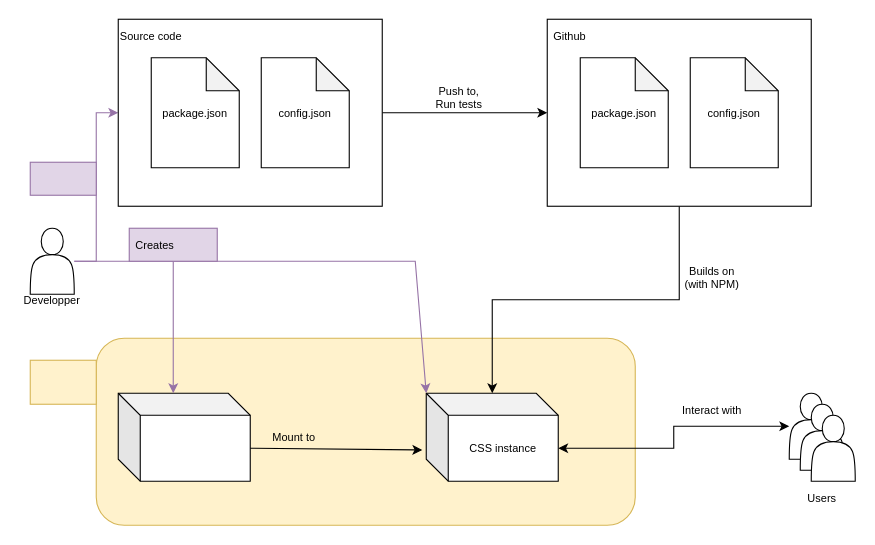
This 875x545 diagram has some shape labels left out. Here are the shapes that lost their labels. From the top down, the box of each, then its label:
(29, 161, 96, 195): Works on
(29, 359, 96, 404): CERN's Openshift
(117, 392, 250, 481): Persistant Volume (user data storage)
